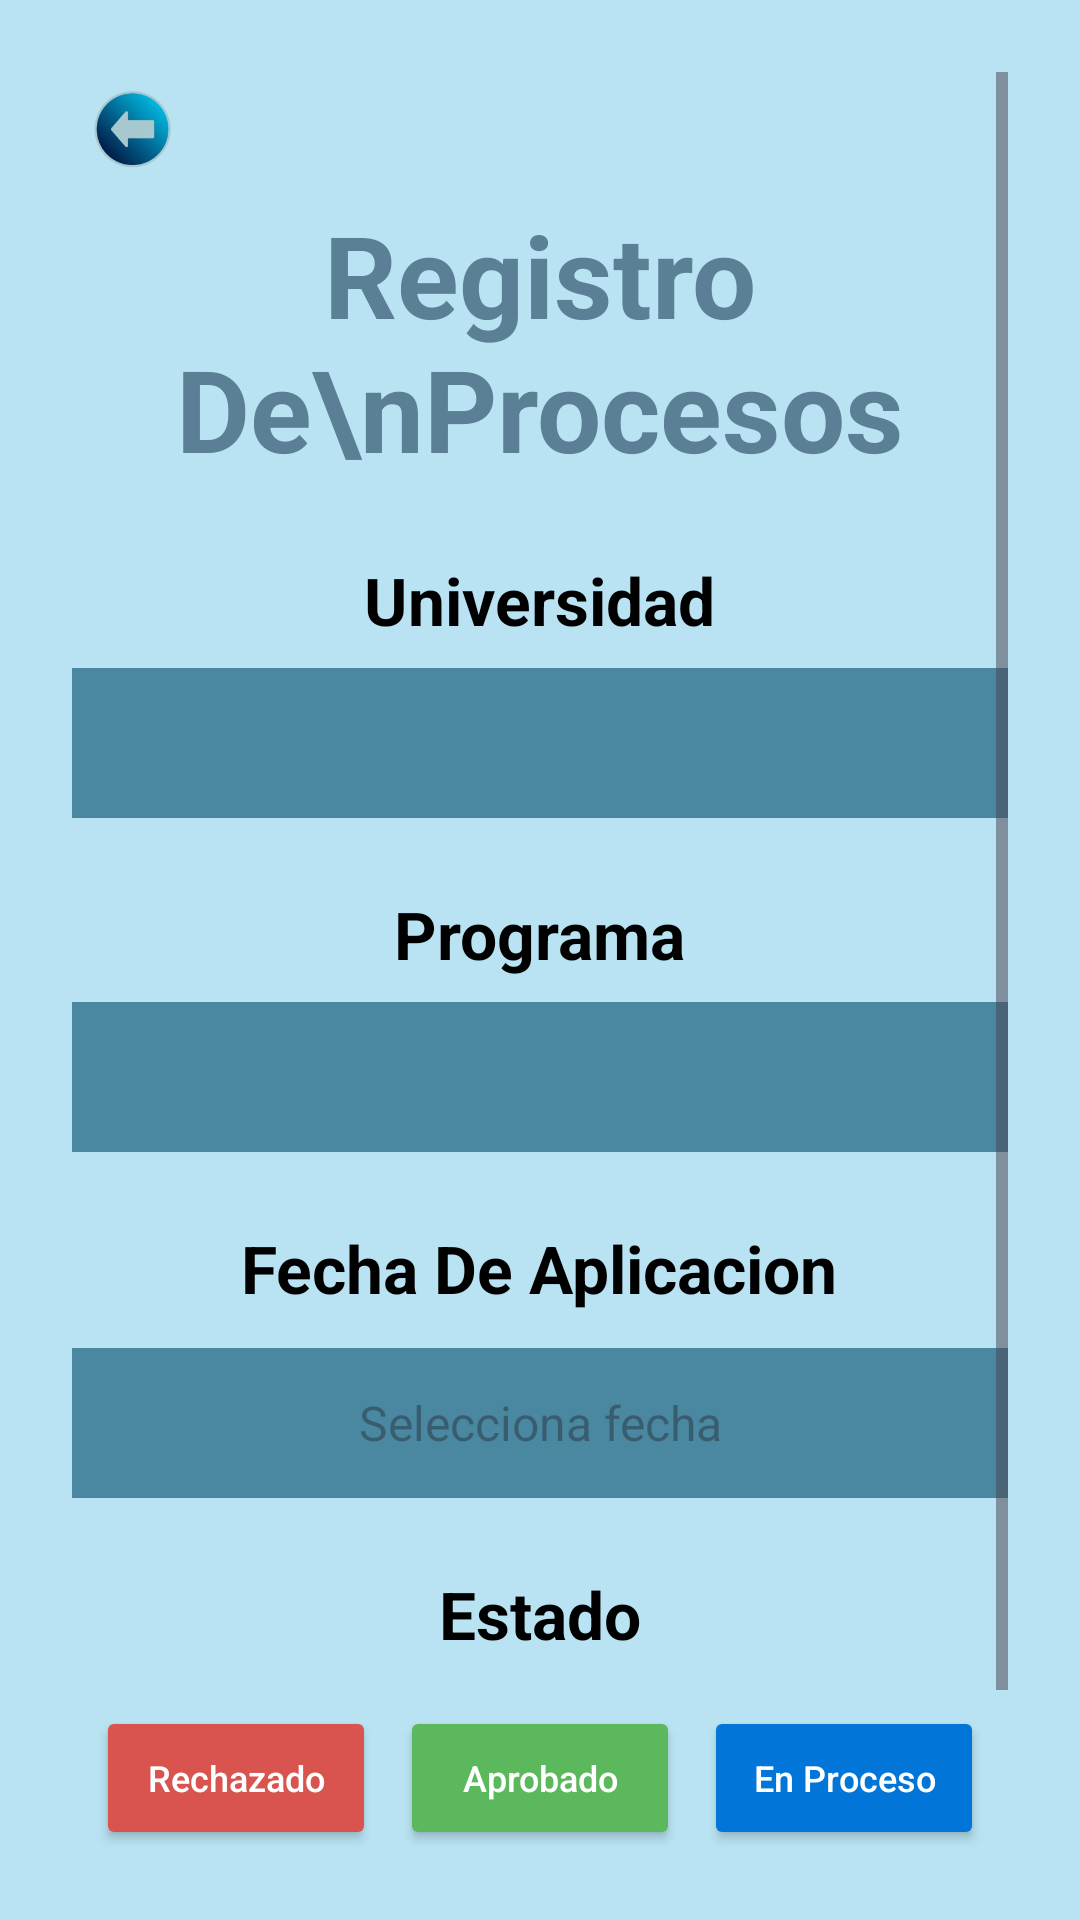

Icon bounding boxes for this 1080x1920 phone screenshot, format BBox(x1, y1, x2, y2):
retroceso: BBox(95, 91, 170, 167)
